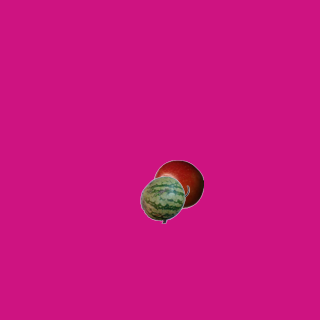Apple Braeburn: (153, 159, 203, 209)
Watermelon: (139, 174, 189, 224)
